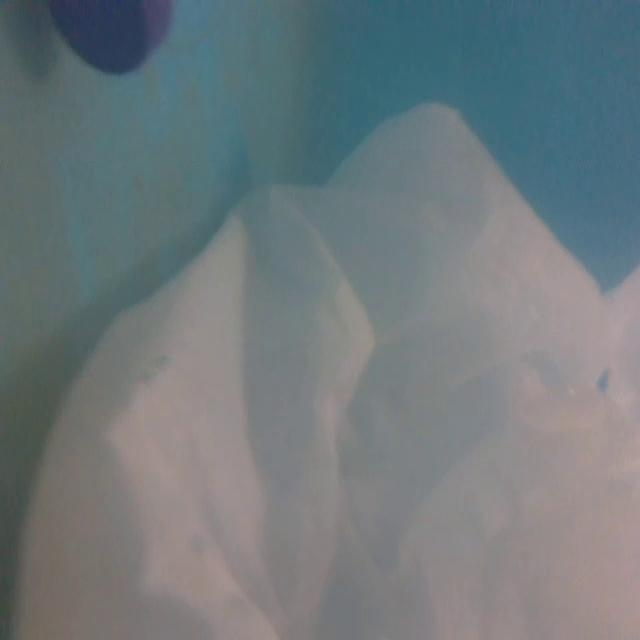plastic bags: (0, 101, 640, 640)
